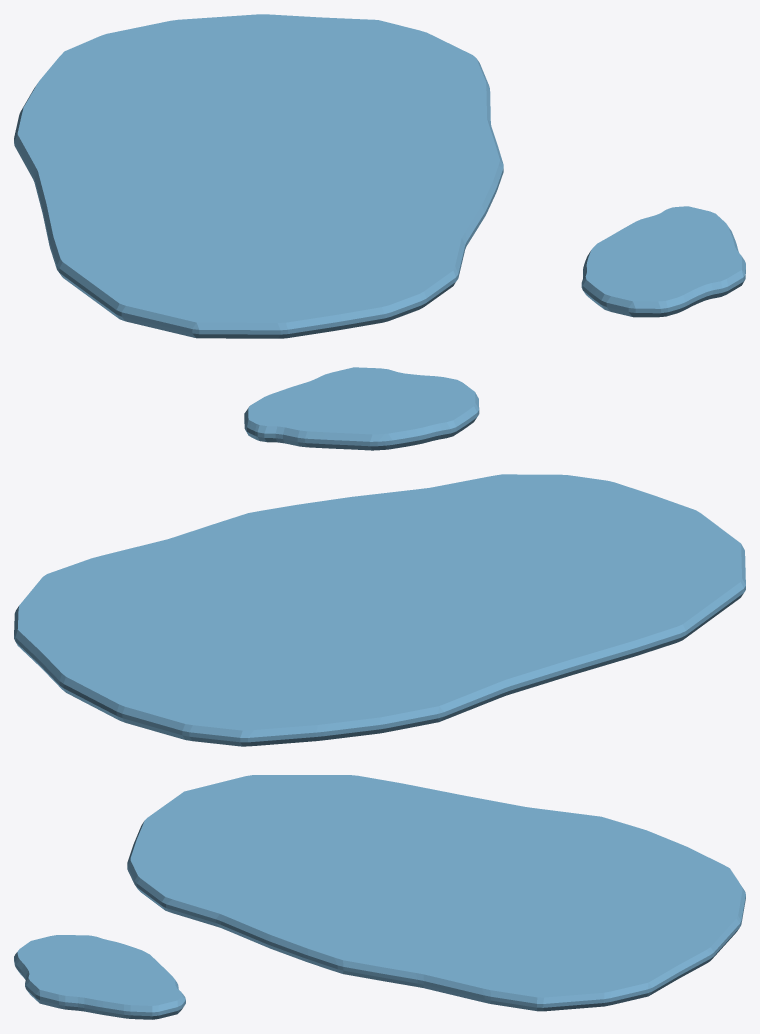
The model's file is blue_puddle_partyassets.fbx.
3 renders of one model, top to bottom at view 1: azimuth 30°, elevation 25°; view 2: azimuth 150°, elevation 25°; view 3: azimuth 270°, elevation 25°, orthographic. The views are drawn at different scales.
Parts seen in each view (by area): view 1: blue_puddle_partyassets; view 2: blue_puddle_partyassets; view 3: blue_puddle_partyassets.
Boxes of the visible parts, x1,y1,x2,y2 form: blue_puddle_partyassets: [14, 14, 745, 338]; blue_puddle_partyassets: [14, 367, 745, 746]; blue_puddle_partyassets: [14, 775, 745, 1019].
Bounding box in the file's own units: 84.9 × 2.34 × 112.
